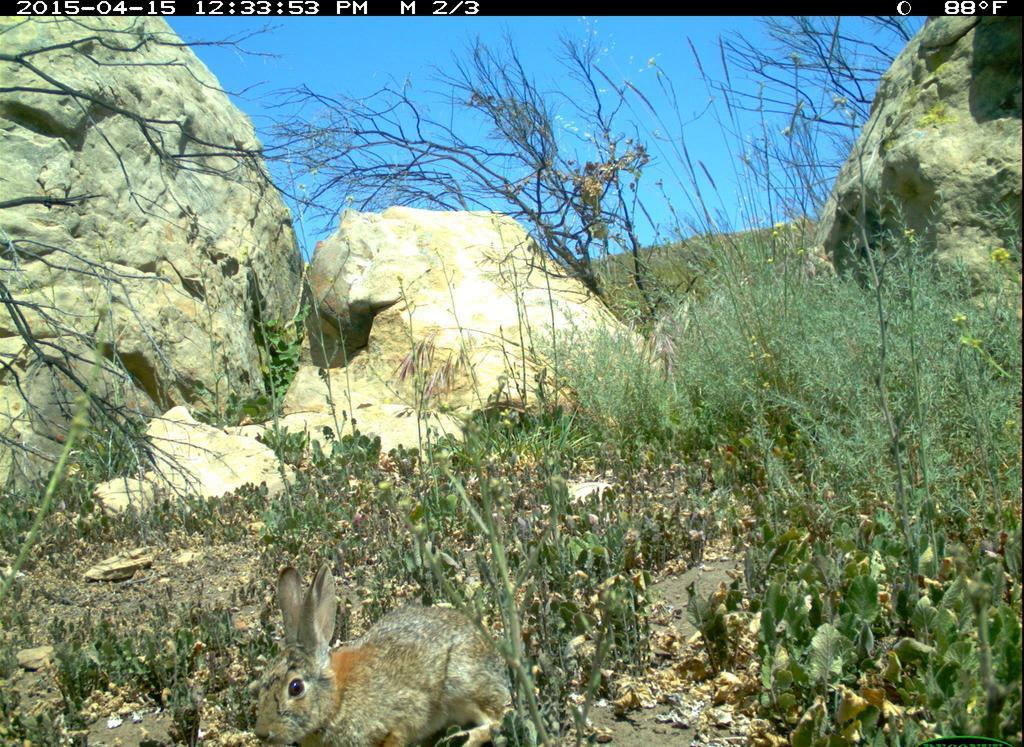rabbit: (235, 564, 529, 747)
